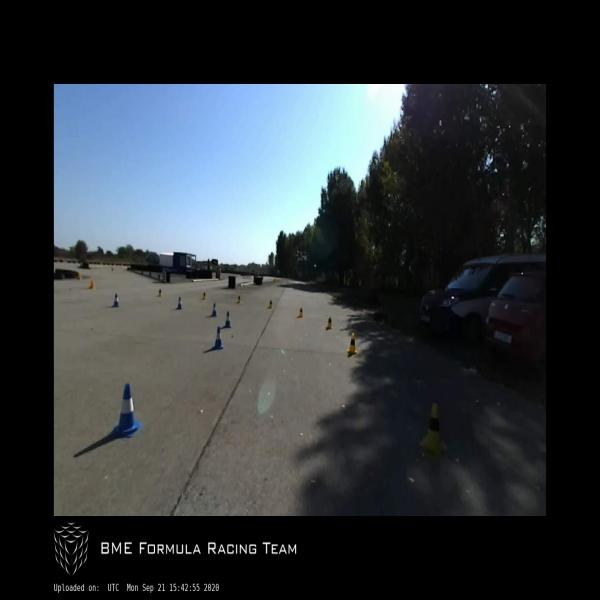blue_cone: (110, 383, 144, 438), (212, 326, 224, 350), (223, 311, 232, 329), (112, 293, 120, 308), (211, 302, 217, 317), (177, 298, 183, 310)
yellow_cone: (421, 403, 447, 455), (348, 332, 358, 354), (326, 315, 332, 329), (298, 306, 304, 318), (236, 294, 242, 304), (269, 298, 273, 309), (202, 290, 206, 300), (158, 288, 162, 298)
